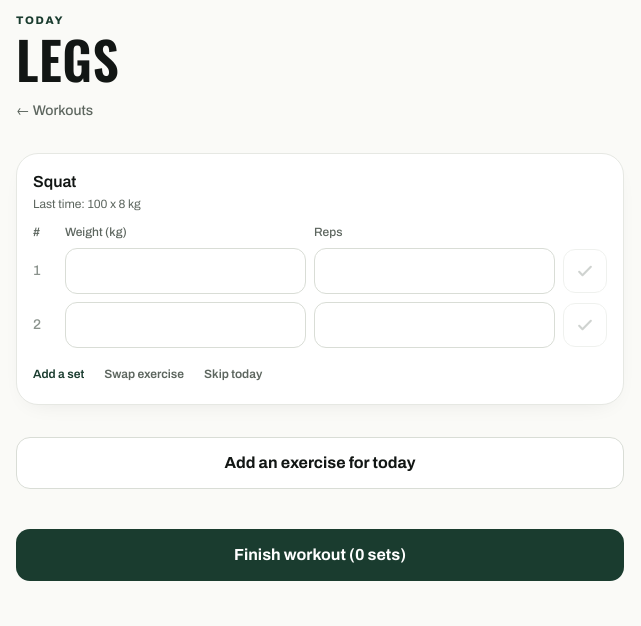
logging a set › badges a set that beats the previous best
In the number field named "Squat set 1 weight": (186, 271) x1=65 y1=248 x2=306 y2=294, type "105"
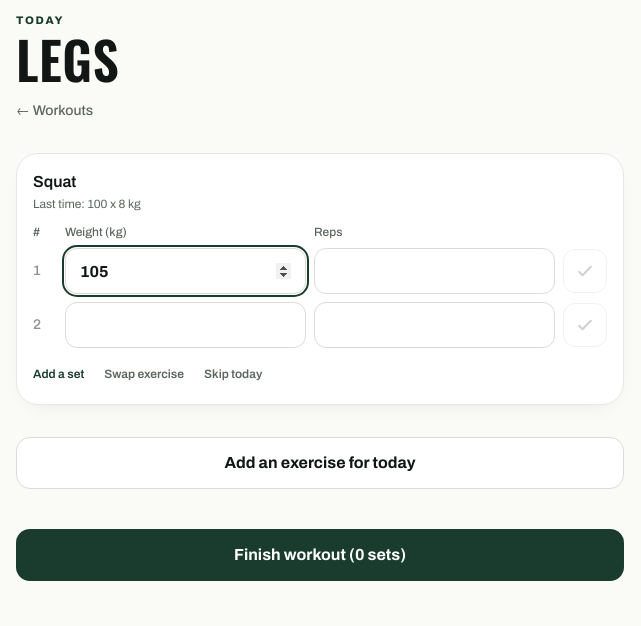
In the number field named "Squat set 1 reps": (434, 271) x1=314 y1=248 x2=555 y2=294, type "5"
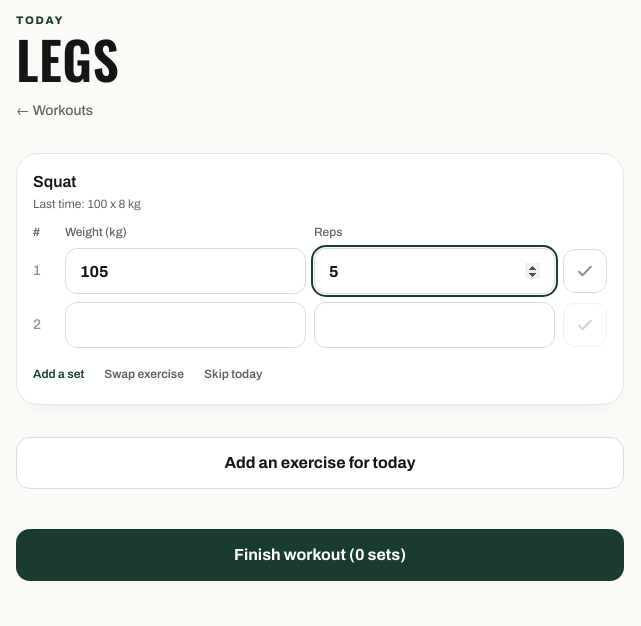
Click the button named "Log Squat set 1": (585, 271) x1=563 y1=249 x2=607 y2=293
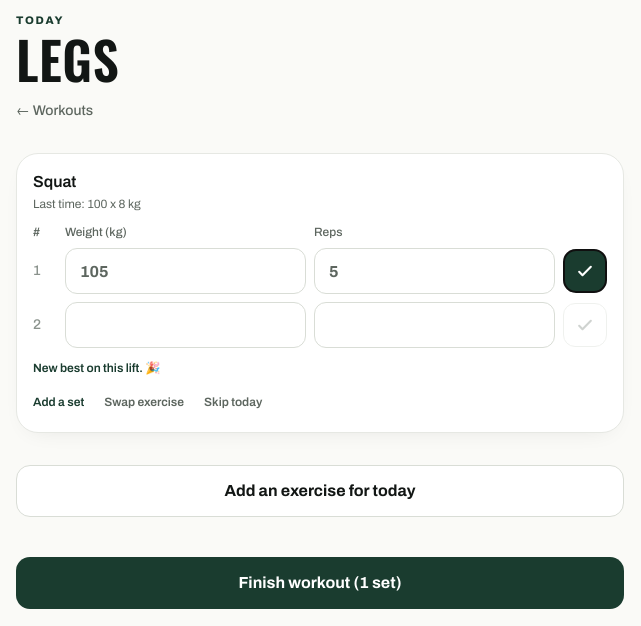
Check: the text "New best on this lift. 🎉" is shown, box x1=33 y1=361 x2=160 y2=375
